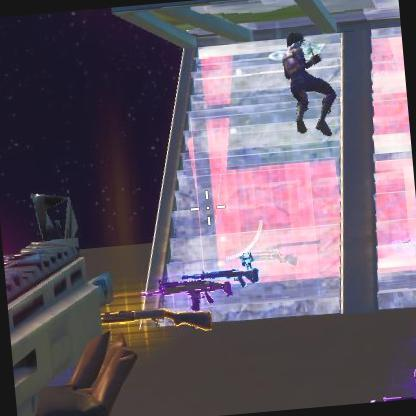person: (280, 28, 342, 138)
